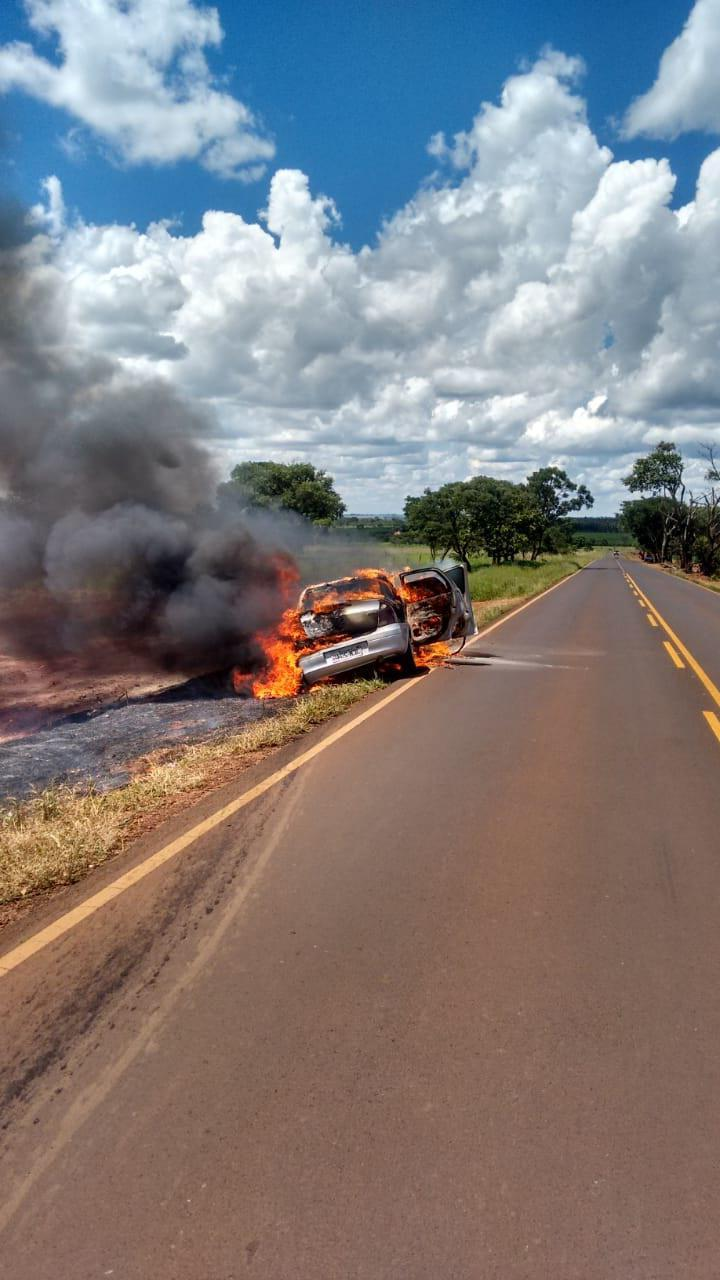Fire: (243, 609, 317, 700), (318, 560, 440, 609), (416, 638, 461, 670)
